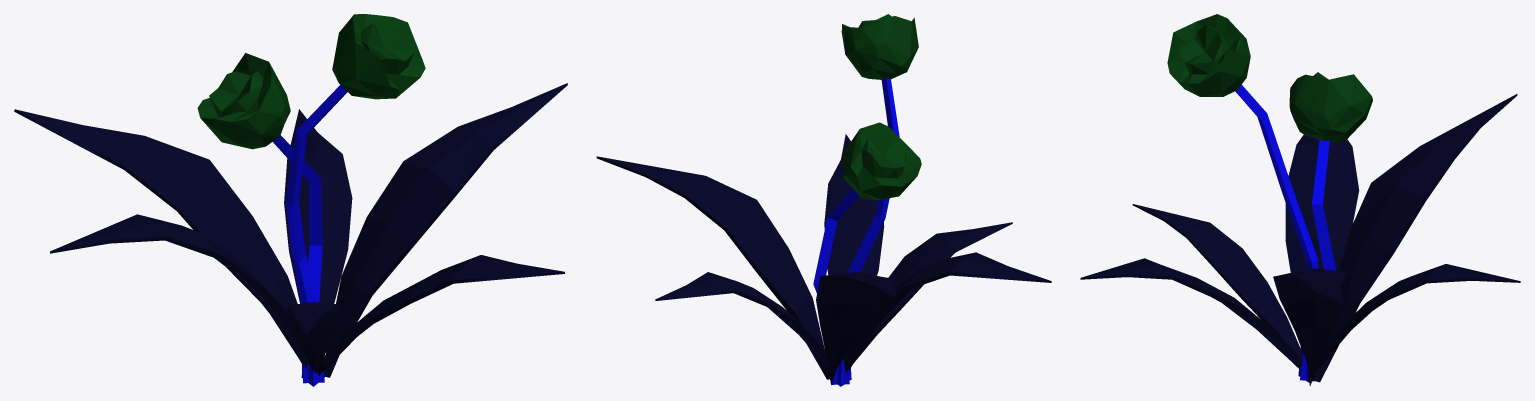
Rendered from PatchRose02.fbx.
The picture shows the model from 3 angles, left to right: view 1: azimuth 30°, elevation 25°; view 2: azimuth 150°, elevation 25°; view 3: azimuth 270°, elevation 25°; orthographic projection. The views are drawn at different scales.
Parts seen in each view (by area): view 1: PatchRose02; view 2: PatchRose02; view 3: PatchRose02.
Boxes of the visible parts, x1,y1,x2,y2 form: PatchRose02: (14, 14, 567, 386); PatchRose02: (596, 14, 1051, 386); PatchRose02: (1080, 14, 1520, 385).
Size of the model in its own units: 52.45 by 38.17 by 42.25.
